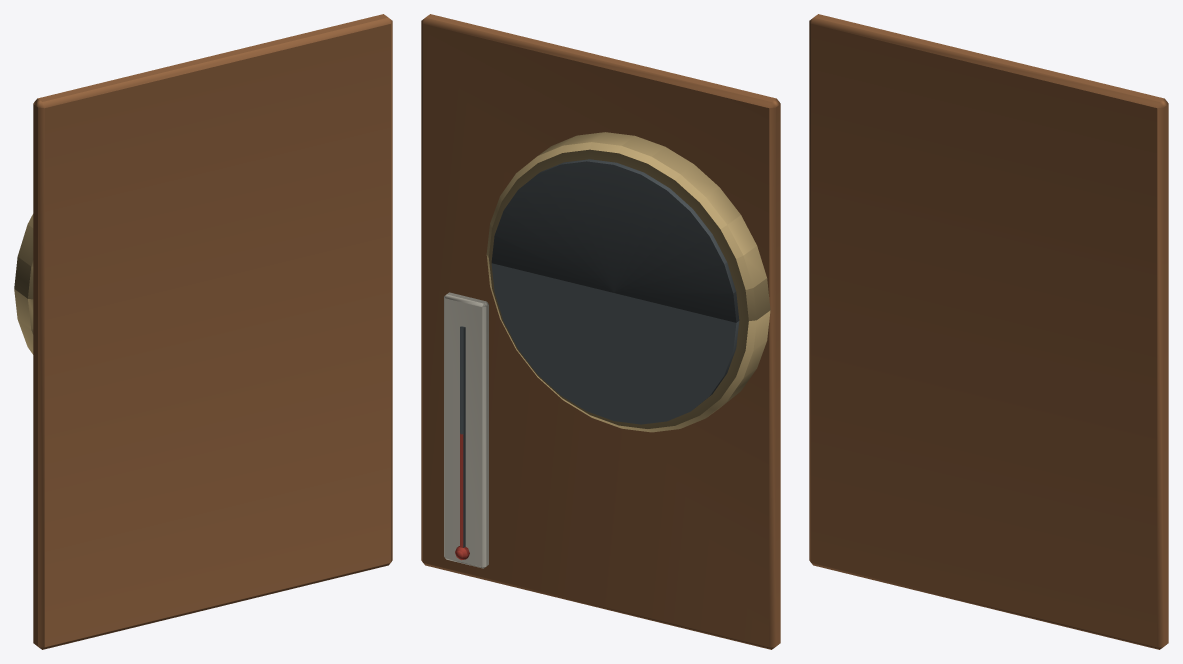
The model's file is obs_barometer.glb.
3 renders of one model, left to right at view 1: azimuth 30°, elevation 25°; view 2: azimuth 150°, elevation 25°; view 3: azimuth 330°, elevation 25°, orthographic.
Parts seen in each view (by area): view 1: static; view 2: static; view 3: static.
Boxes of the visible parts, x1,y1,x2,y2 form: static: [14, 14, 392, 649]; static: [421, 14, 780, 649]; static: [809, 14, 1168, 649].
Size of the model in its own units: 0.42 by 0.62 by 0.07.
